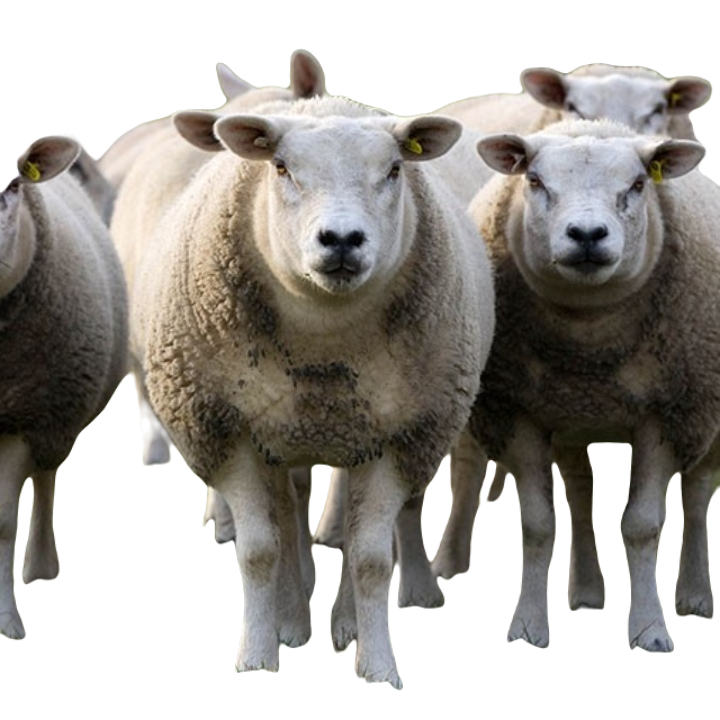Sheep: (140, 97, 497, 692), (475, 112, 719, 659)
